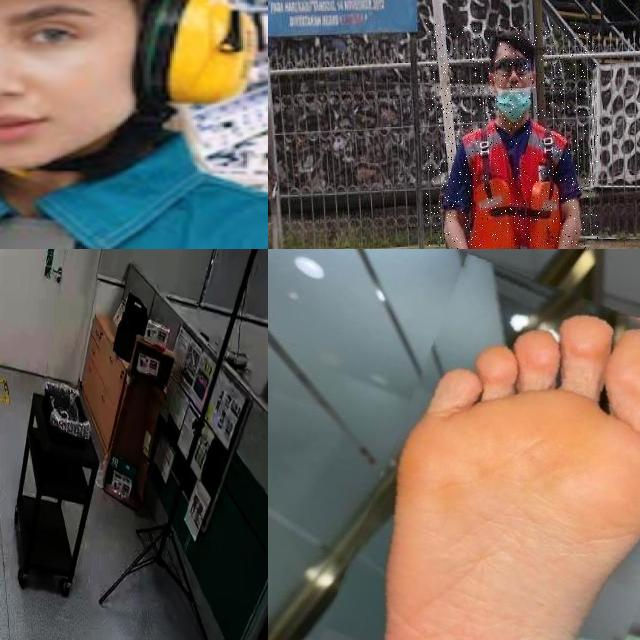Barefoots: (377, 301, 640, 640)
Ear-protection: (0, 0, 261, 187)
No_Glasses: (0, 0, 134, 79)
person: (0, 0, 268, 249), (425, 23, 598, 249)
vest: (464, 120, 569, 249)
